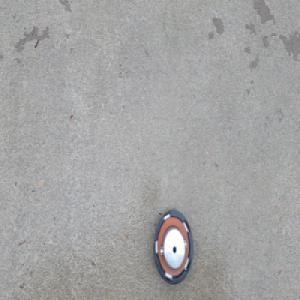FuelCap: (151, 207, 194, 285)
